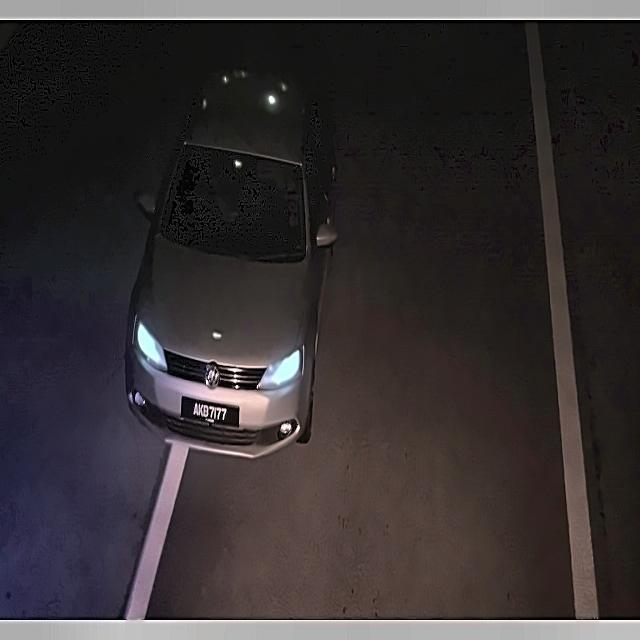car: (181, 395, 236, 431)
